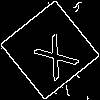X: (25, 25, 81, 82)
